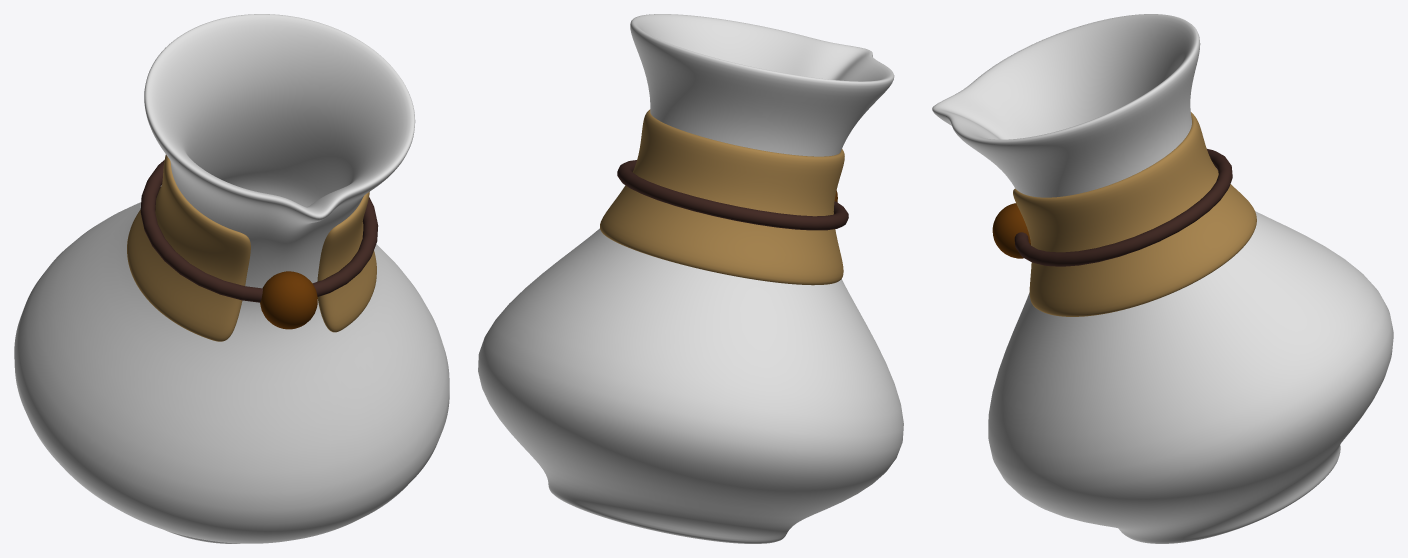
File: chemex-coffee.glb
3 renders of one model, left to right at view 1: azimuth 30°, elevation 25°; view 2: azimuth 150°, elevation 25°; view 3: azimuth 270°, elevation 25°, orthographic. The views are drawn at different scales.
Parts seen in each view (by area): view 1: Cylinder, Cylinder.001, Cylinder.004, Sphere; view 2: Cylinder, Cylinder.001, Cylinder.004; view 3: Cylinder, Cylinder.001, Cylinder.004, Sphere.
Part boxes in pixels (x1,y1,x2,y2): Cylinder: (14,14,449,543); Cylinder.001: (127,155,376,341); Cylinder.004: (140,160,378,302); Sphere: (260,271,317,329); Cylinder: (478,14,903,543); Cylinder.001: (600,109,844,285); Cylinder.004: (617,160,848,230); Cylinder: (932,14,1393,543); Cylinder.001: (1013,112,1256,316); Cylinder.004: (1014,149,1232,266); Sphere: (992,203,1030,258).
Bounding box in the file's own units: 1.88 × 2.33 × 2.05.
